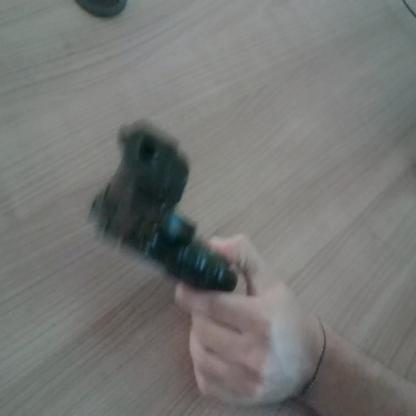handgun: (84, 109, 238, 287)
